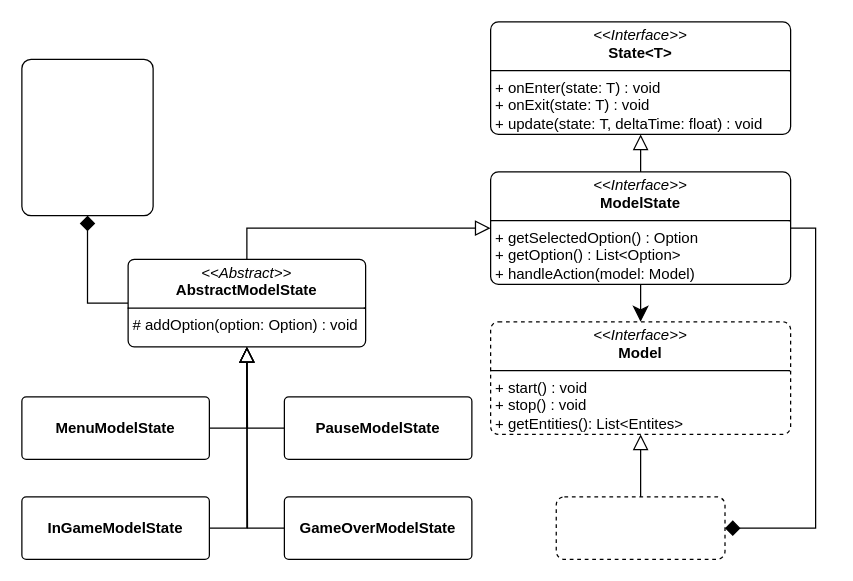
Image size: 853x581. Some labels were removed from this diagram. The shapes that lost their labels are listed below. From the top down, each one's box as (x1, y1, x2, y2) in pixels, then its label:
(21, 58, 153, 216): <<Enumeration>> Option START RESUME MENU QUIT NONE
(555, 496, 725, 559): GameModel
